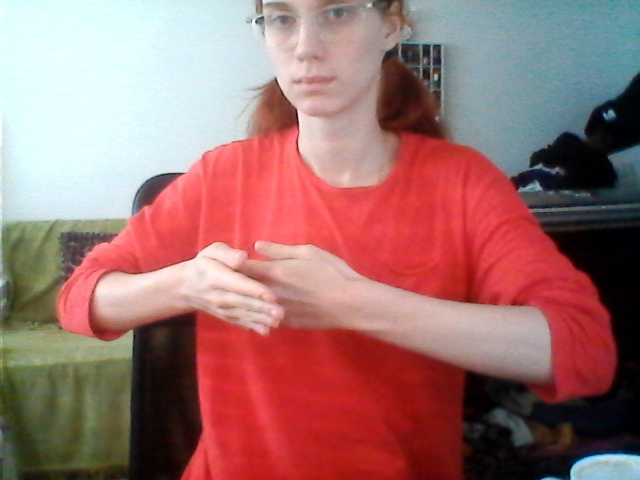dvere: (180, 232, 358, 342)
